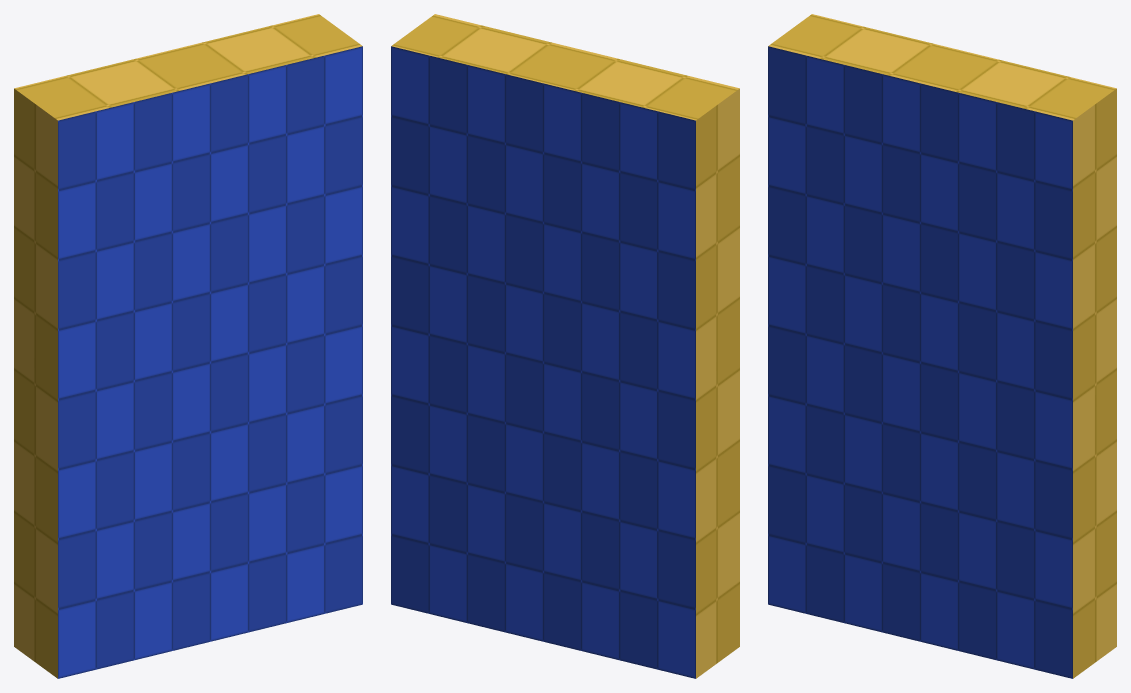
Rendered from Wall2m.fbx.
The picture shows the model from 3 angles, left to right: view 1: azimuth 30°, elevation 25°; view 2: azimuth 150°, elevation 25°; view 3: azimuth 330°, elevation 25°; orthographic projection.
Visible parts, largest first — view 1: Wall2m; view 2: Wall2m; view 3: Wall2m.
Boxes of the visible parts, x1,y1,x2,y2 form: Wall2m: [14, 14, 362, 678]; Wall2m: [391, 14, 739, 678]; Wall2m: [768, 14, 1116, 678].
Size of the model in its own units: 200 by 50 by 350.
